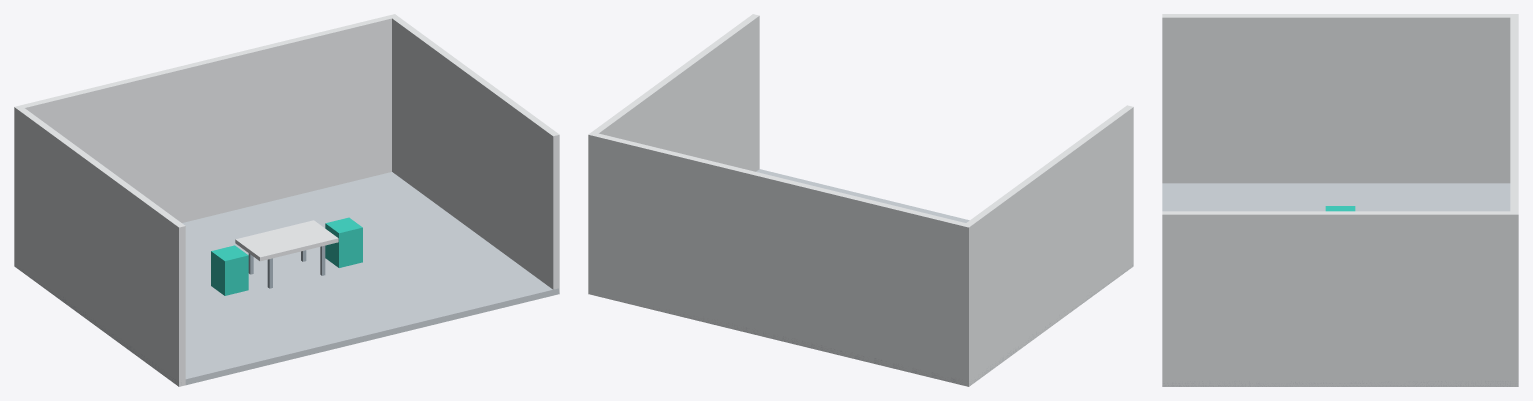
The picture shows the model from 3 angles, left to right: view 1: azimuth 30°, elevation 25°; view 2: azimuth 150°, elevation 25°; view 3: azimuth 270°, elevation 25°; orthographic projection. The views are drawn at different scales.
Visible parts, largest first — view 1: Exhibition Booth Concept; view 2: Exhibition Booth Concept; view 3: Exhibition Booth Concept.
Boxes of the visible parts, x1,y1,x2,y2 form: Exhibition Booth Concept: (14, 14, 559, 386); Exhibition Booth Concept: (588, 14, 1133, 386); Exhibition Booth Concept: (1162, 14, 1518, 386).
Bounding box in the file's own units: 8 × 3.2 × 6.
